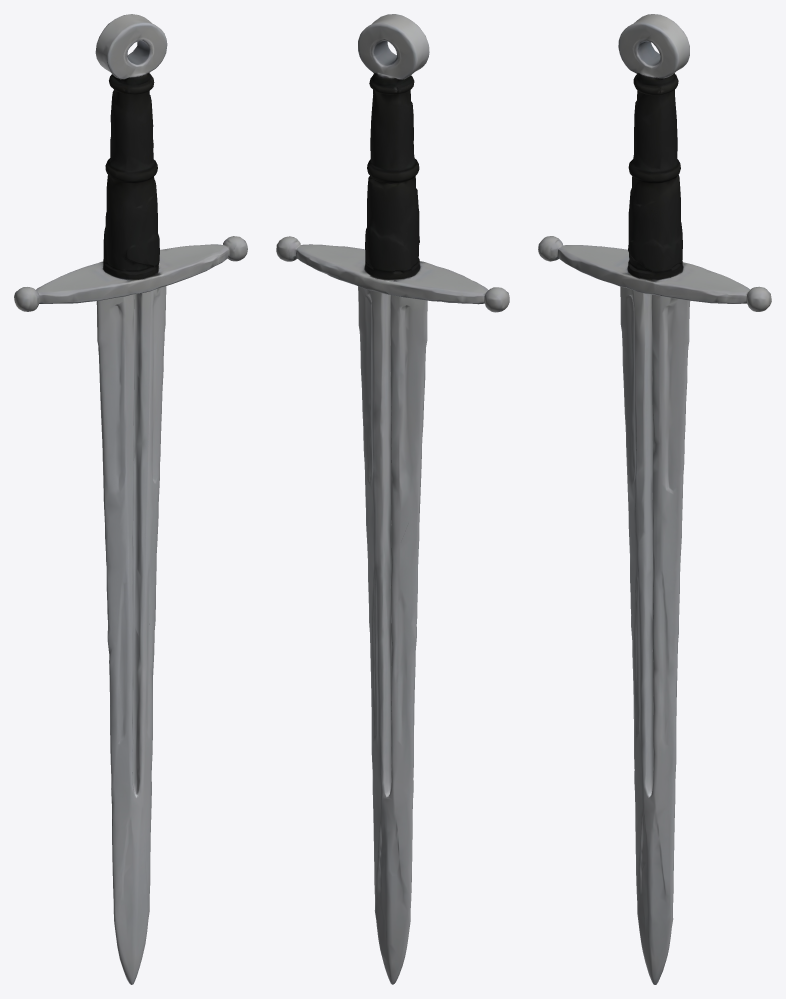
File: medieval-two-handed-sword.glb
3 renders of one model, left to right at view 1: azimuth 30°, elevation 25°; view 2: azimuth 150°, elevation 25°; view 3: azimuth 330°, elevation 25°, orthographic.
Visible parts, largest first — view 1: tripo_node_4697ef88-bb63-4bc4-9d79-1a0b02e7a1dc; view 2: tripo_node_4697ef88-bb63-4bc4-9d79-1a0b02e7a1dc; view 3: tripo_node_4697ef88-bb63-4bc4-9d79-1a0b02e7a1dc.
Boxes of the visible parts, x1=… form: tripo_node_4697ef88-bb63-4bc4-9d79-1a0b02e7a1dc: x1=14, y1=14, x2=247, y2=984; tripo_node_4697ef88-bb63-4bc4-9d79-1a0b02e7a1dc: x1=276, y1=14, x2=509, y2=984; tripo_node_4697ef88-bb63-4bc4-9d79-1a0b02e7a1dc: x1=538, y1=14, x2=771, y2=984.
Bounding box in the file's own units: 0.248 × 1 × 0.0583.
1 material, 1 textured.
